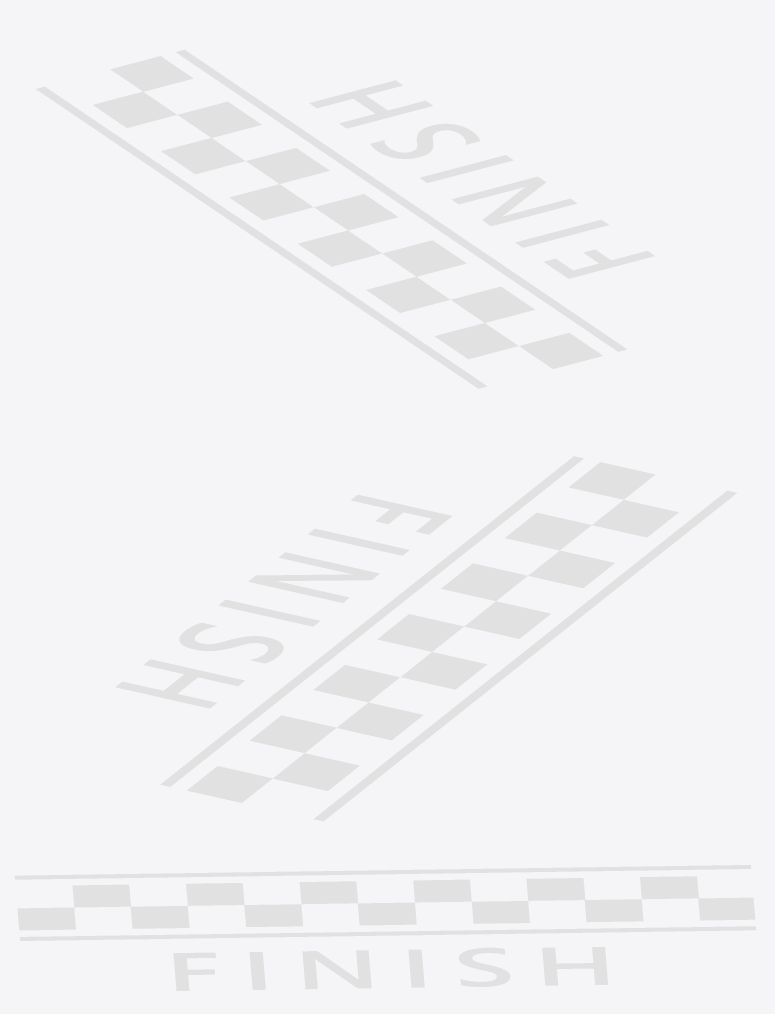
File: EndLine.fbx
The picture shows the model from 3 angles, top to bottom: view 1: azimuth 30°, elevation 25°; view 2: azimuth 150°, elevation 25°; view 3: azimuth 270°, elevation 25°; orthographic projection. The views are drawn at different scales.
Parts seen in each view (by area): view 1: EndLine.011; view 2: EndLine.011; view 3: EndLine.011.
Part boxes in pixels (left/top/right/bottom): EndLine.011: left=36, top=49, right=654, bottom=388; EndLine.011: left=115, top=456, right=736, bottom=821; EndLine.011: left=15, top=865, right=755, bottom=990.
Bounding box in the file's own units: 648 × 6.58e-05 × 1420.
